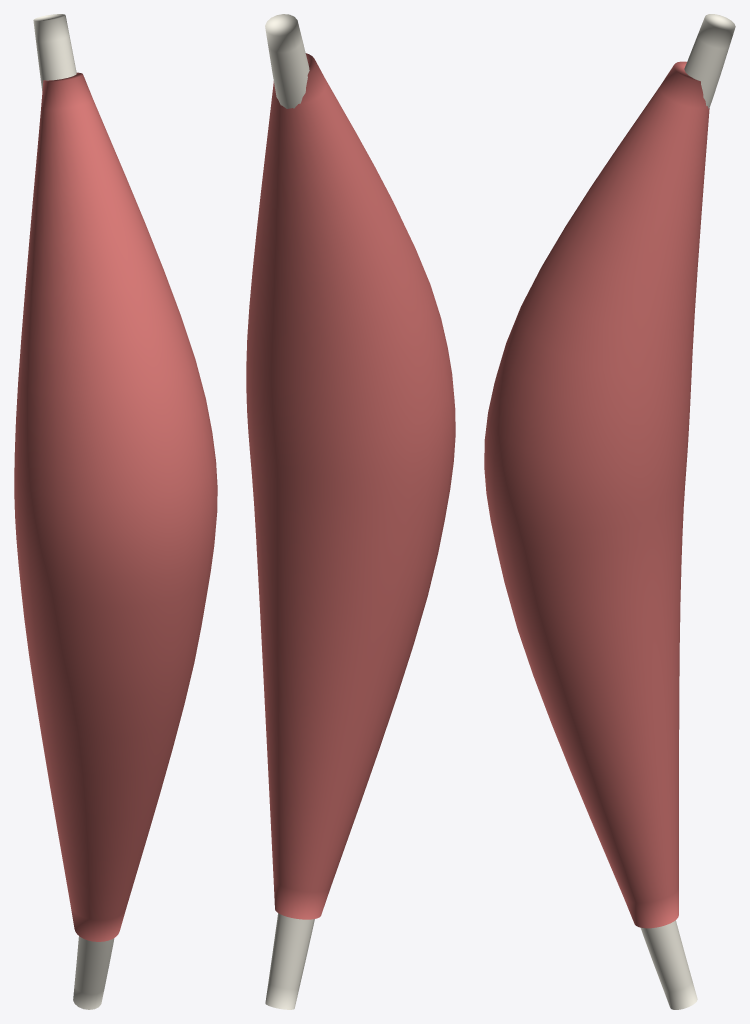
File: biceps.glb
The picture shows the model from 3 angles, left to right: view 1: azimuth 30°, elevation 25°; view 2: azimuth 150°, elevation 25°; view 3: azimuth 270°, elevation 25°; orthographic projection. The views are drawn at different scales.
Visible parts, largest first — view 1: biceps; view 2: biceps; view 3: biceps.
Part boxes in pixels (x1,y1,x2,y2): biceps: [14, 14, 217, 1009]; biceps: [246, 14, 455, 1009]; biceps: [484, 14, 735, 1009].
Size of the model in its own units: 0.2237 by 1.19 by 0.2768.
